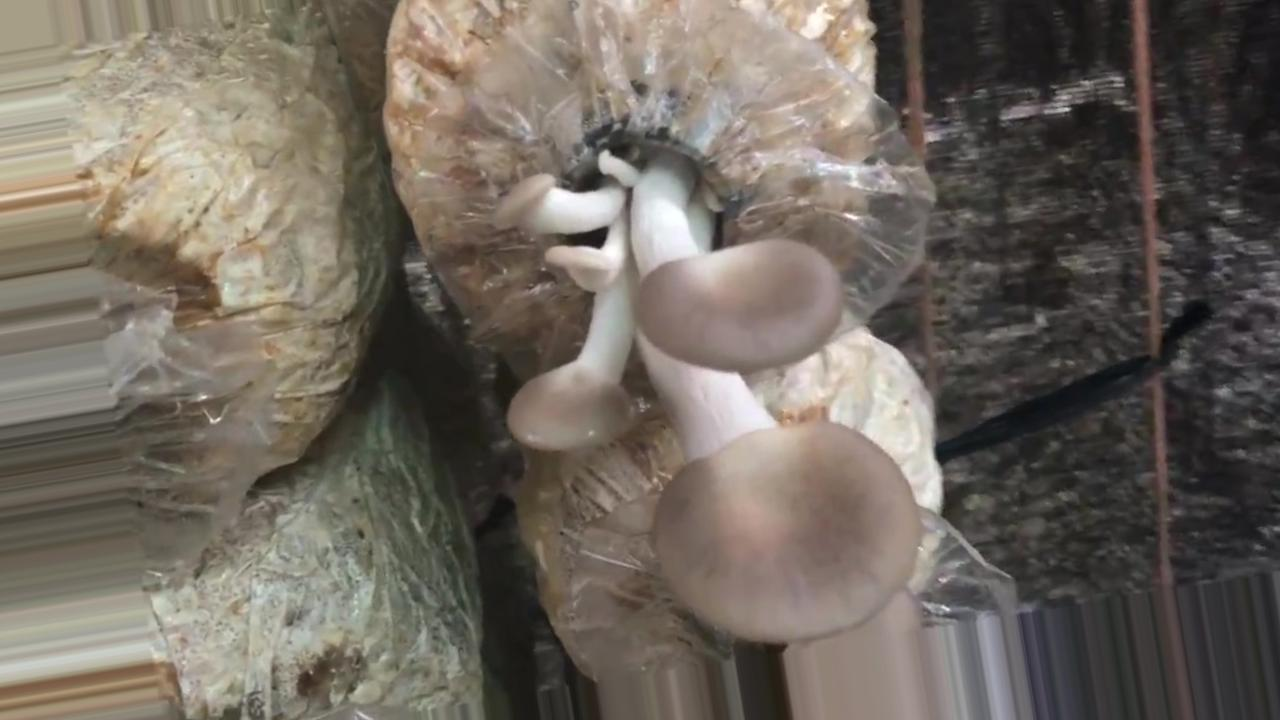nam: (494, 120, 920, 720)
